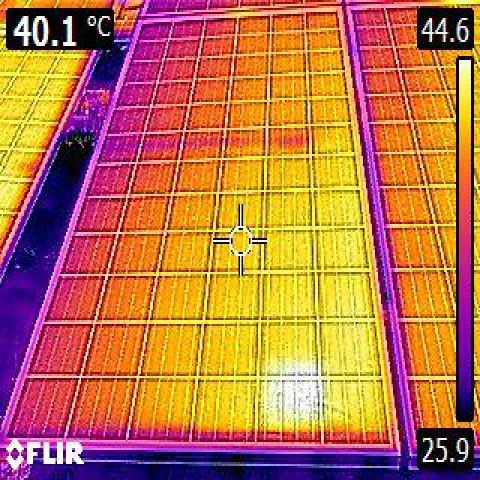fault: (260, 375, 317, 441)
